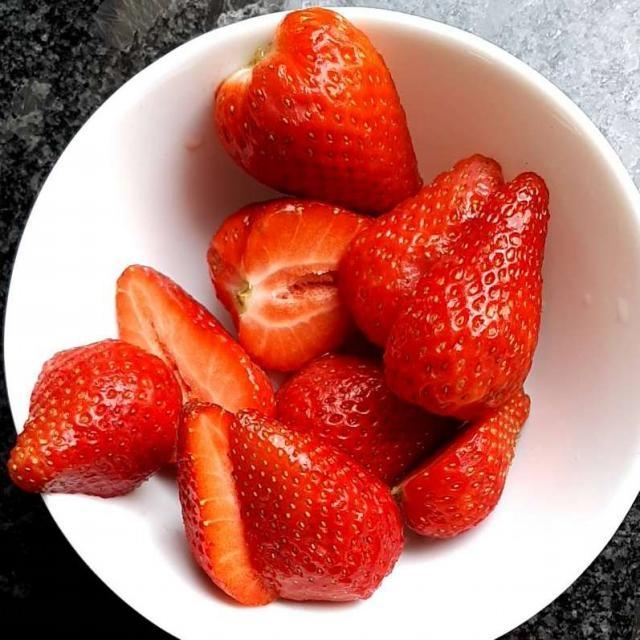strawberries: (32, 24, 546, 595)
